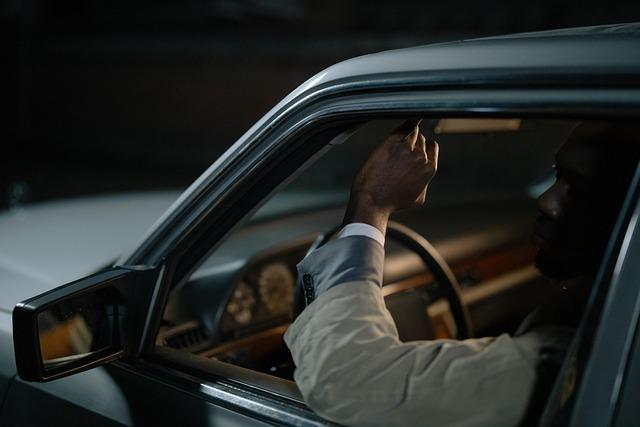Non_Gorille: (24, 12, 640, 427)
